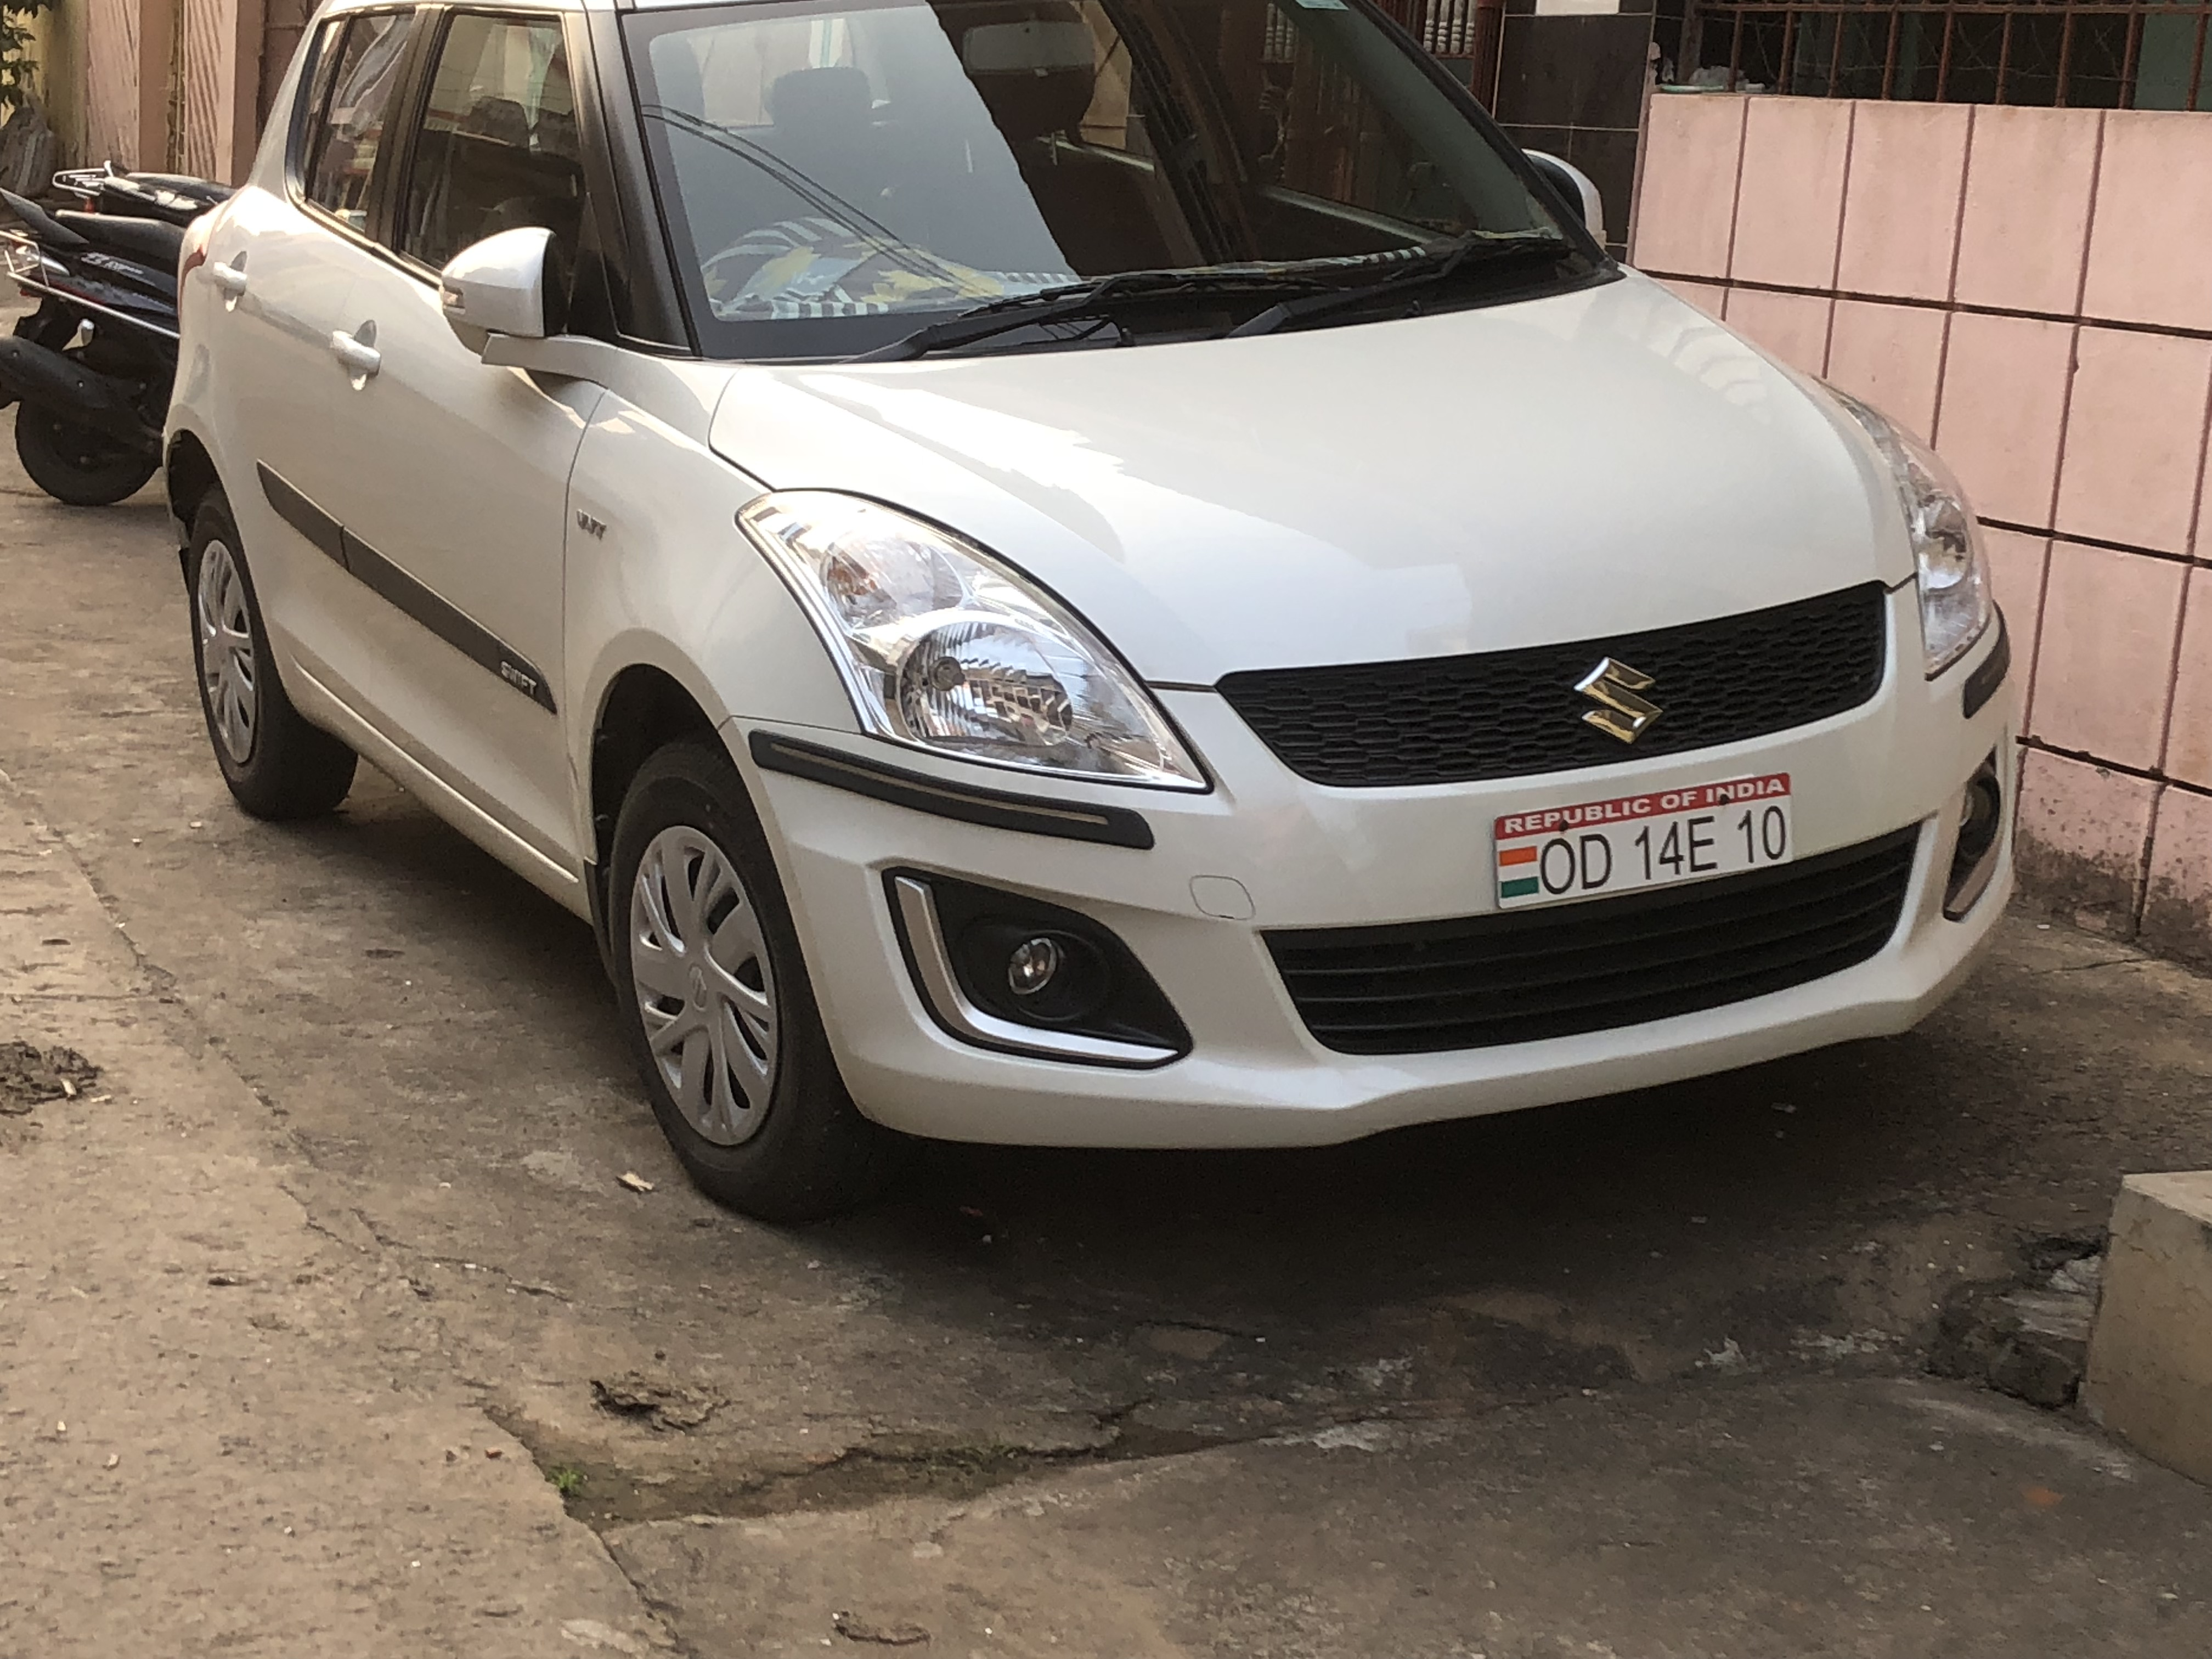licenseplate: (1479, 775, 1810, 903)
